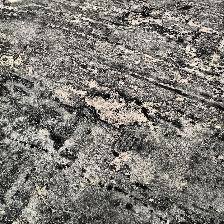pothole: (82, 90, 148, 128), (121, 12, 155, 26)
